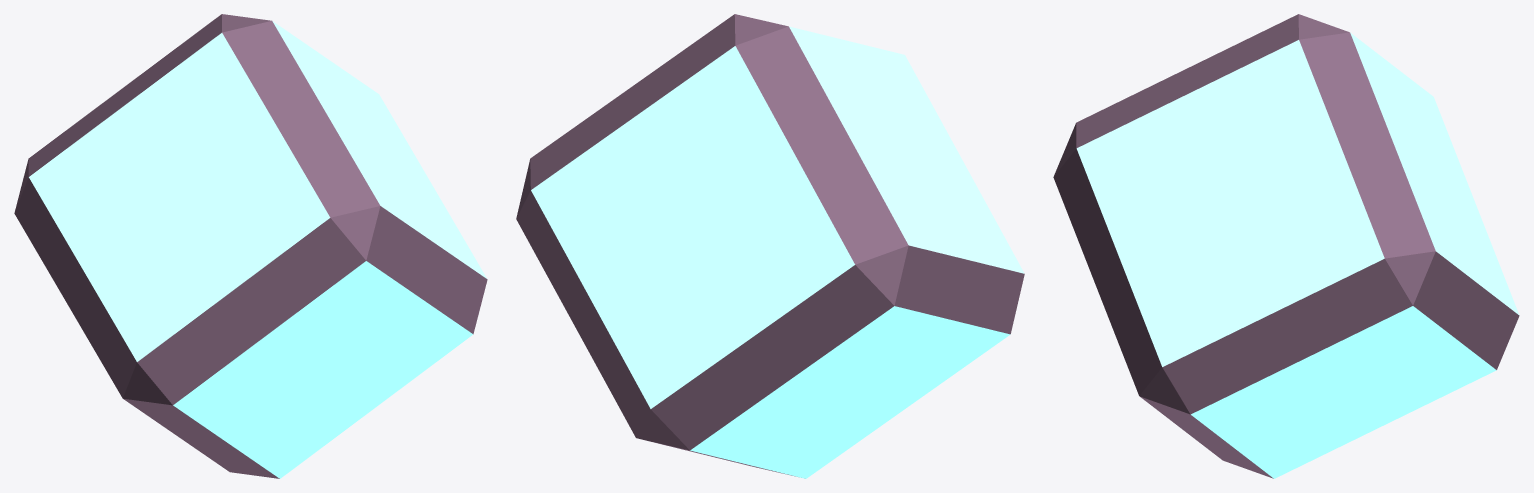
File: IcePickUp.fbx
3 views of the same model, side by side, from view 1: azimuth 30°, elevation 25°; view 2: azimuth 150°, elevation 25°; view 3: azimuth 270°, elevation 25° (orthographic). The views are drawn at different scales.
Parts seen in each view (by area): view 1: IcePickUp; view 2: IcePickUp; view 3: IcePickUp.
Part boxes in pixels (box(x1,y1,x2,y2)): IcePickUp: box(14, 14, 487, 478); IcePickUp: box(516, 14, 1024, 478); IcePickUp: box(1053, 14, 1519, 478).
Bounding box in the file's own units: 248 × 289 × 277.
